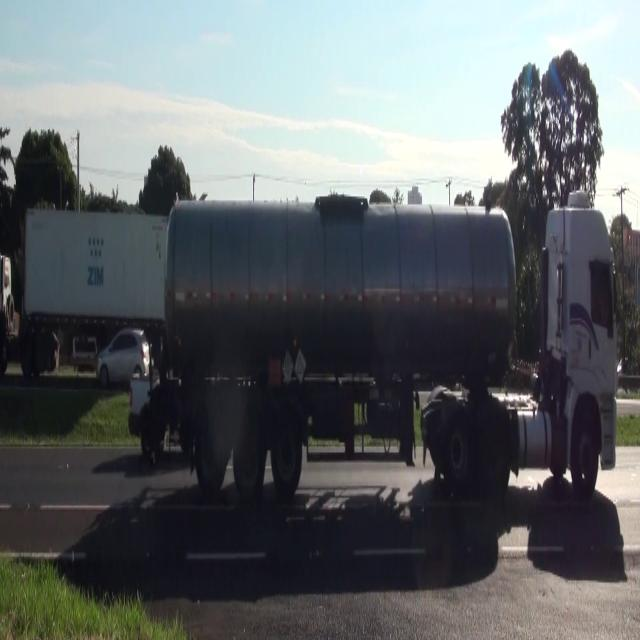-axle: (268, 409, 303, 496), (232, 415, 265, 501), (194, 410, 227, 492), (478, 404, 507, 494), (438, 418, 471, 488), (572, 419, 600, 498)
